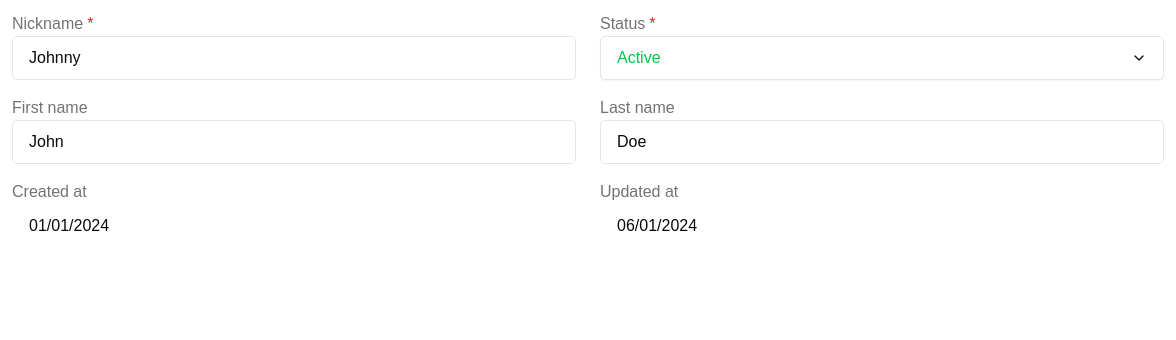
Scenario: UserInfoForm › requires nickname when editing
Clear the field labelled "Nickname". click: [294, 58]
box: [12, 36, 576, 80]
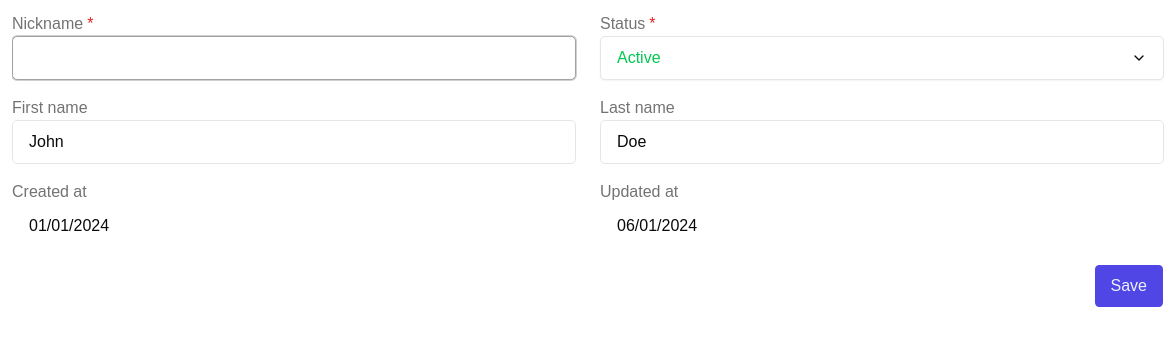
Click the button "Save". click: [1129, 286]
box: [1094, 264, 1164, 308]
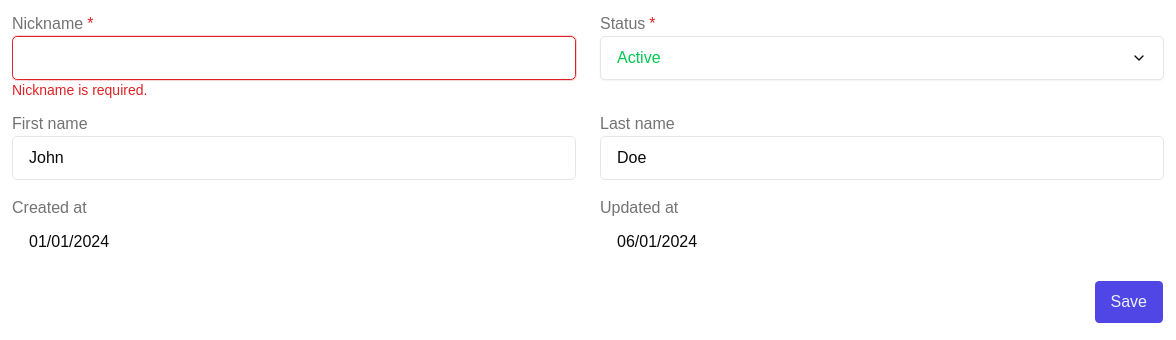
Check: the text "Nickname is required." is shown, box [12, 80, 147, 100]
